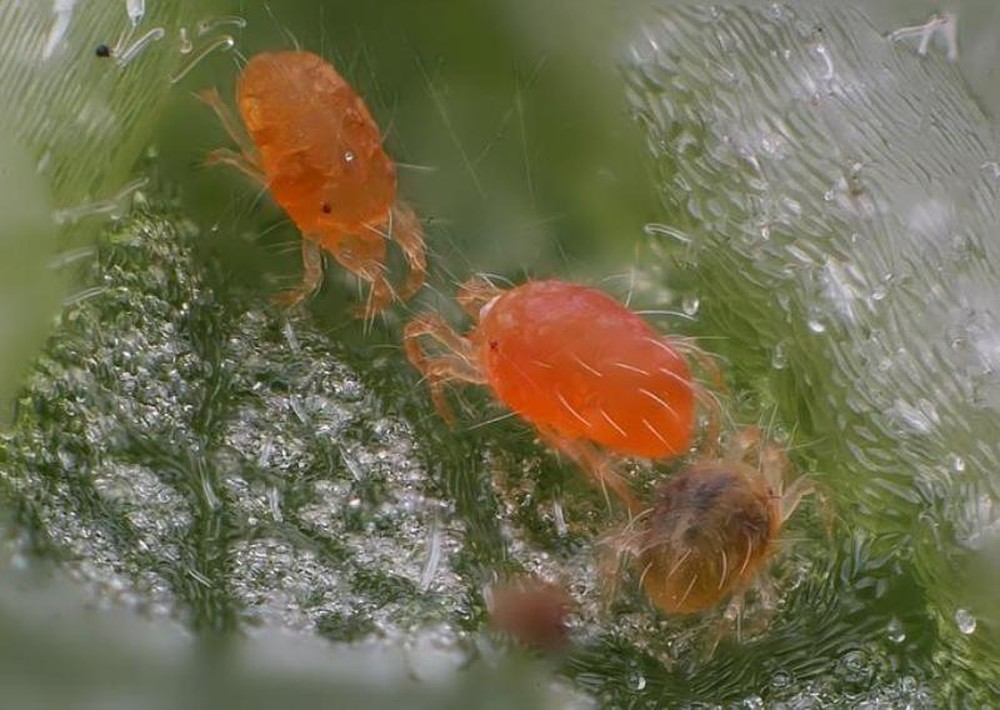Aracnido Rojo: (401, 239, 726, 492), (183, 46, 465, 327), (610, 409, 811, 635)
